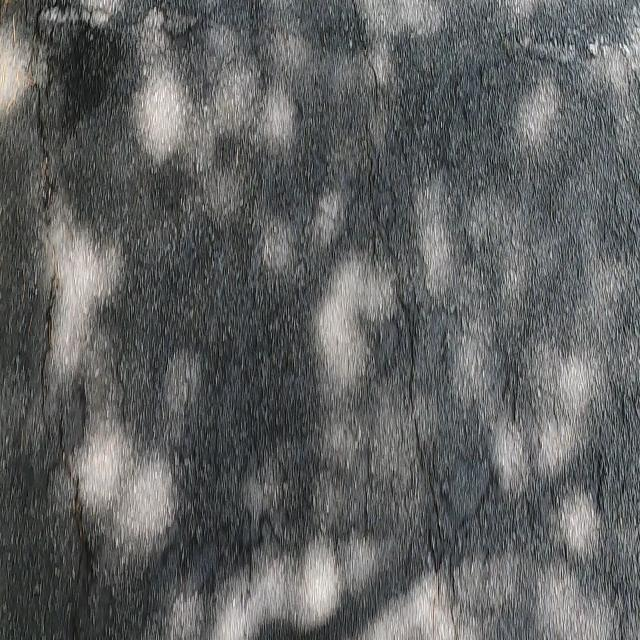Retak-Memanjang: (393, 286, 429, 473), (37, 270, 62, 454), (29, 76, 59, 214)
